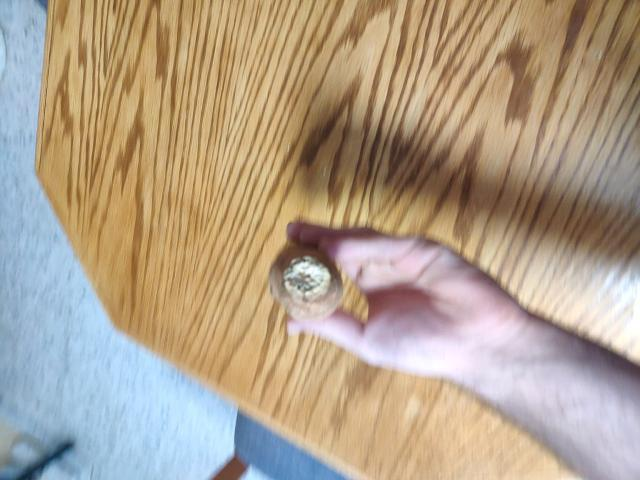sweet_potato: (250, 254, 342, 325)
